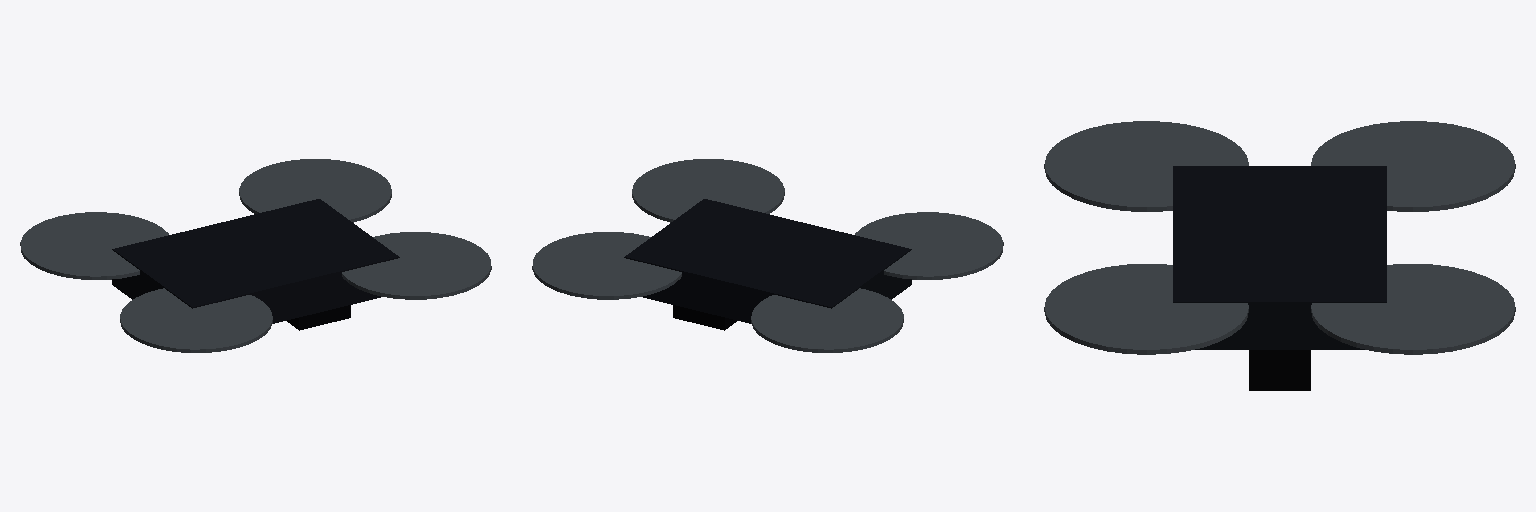
URDF robot description (inspection_drone):
<?xml version="1.0"?>
<robot name="inspection_drone" version="1.2">
  <material name="carbon">
    <color rgba="0.08 0.09 0.11 1"/>
  </material>
  <material name="propeller">
    <color rgba="0.28 0.3 0.32 0.72"/>
  </material>
  <material name="camera_black">
    <color rgba="0.04 0.04 0.05 1"/>
  </material>
  <link name="base_link">
    <inertial><origin xyz="0 0 0" rpy="0 0 0"/><mass value="3.8"/><inertia ixx="0.01" ixy="0" ixz="0" iyy="0.01" iyz="0" izz="0.01"/></inertial>
    <visual><origin xyz="0 0 0" rpy="0 0 0"/><geometry><mesh filename="meshes/frame.dae"/></geometry><material name="carbon"/></visual>
    <collision><origin xyz="0 0 0" rpy="0 0 0"/><geometry><box size="0.72 0.48 0.12"/></geometry></collision>
  </link>
  <link name="rotor_1">
    <inertial><origin xyz="0 0 0" rpy="0 0 0"/><mass value="0.12"/><inertia ixx="0.01" ixy="0" ixz="0" iyy="0.01" iyz="0" izz="0.01"/></inertial>
    <visual><origin xyz="0 0 0" rpy="0 0 0"/><geometry><cylinder radius="0.23" length="0.012"/></geometry><material name="propeller"/></visual>
    <collision><origin xyz="0 0 0" rpy="0 0 0"/><geometry><cylinder radius="0.23" length="0.012"/></geometry></collision>
  </link>
  <joint name="rotor_joint_1" type="continuous"><parent link="base_link"/><child link="rotor_1"/><origin xyz="-0.38 -0.3 0.05" rpy="0 0 0"/><axis xyz="0 0 1"/></joint>
  <link name="rotor_2">
    <inertial><origin xyz="0 0 0" rpy="0 0 0"/><mass value="0.12"/><inertia ixx="0.01" ixy="0" ixz="0" iyy="0.01" iyz="0" izz="0.01"/></inertial>
    <visual><origin xyz="0 0 0" rpy="0 0 0"/><geometry><cylinder radius="0.23" length="0.012"/></geometry><material name="propeller"/></visual>
    <collision><origin xyz="0 0 0" rpy="0 0 0"/><geometry><cylinder radius="0.23" length="0.012"/></geometry></collision>
  </link>
  <joint name="rotor_joint_2" type="continuous"><parent link="base_link"/><child link="rotor_2"/><origin xyz="-0.38 0.3 0.05" rpy="0 0 0"/><axis xyz="0 0 1"/></joint>
  <link name="rotor_3">
    <inertial><origin xyz="0 0 0" rpy="0 0 0"/><mass value="0.12"/><inertia ixx="0.01" ixy="0" ixz="0" iyy="0.01" iyz="0" izz="0.01"/></inertial>
    <visual><origin xyz="0 0 0" rpy="0 0 0"/><geometry><cylinder radius="0.23" length="0.012"/></geometry><material name="propeller"/></visual>
    <collision><origin xyz="0 0 0" rpy="0 0 0"/><geometry><cylinder radius="0.23" length="0.012"/></geometry></collision>
  </link>
  <joint name="rotor_joint_3" type="continuous"><parent link="base_link"/><child link="rotor_3"/><origin xyz="0.38 -0.3 0.05" rpy="0 0 0"/><axis xyz="0 0 1"/></joint>
  <link name="rotor_4">
    <inertial><origin xyz="0 0 0" rpy="0 0 0"/><mass value="0.12"/><inertia ixx="0.01" ixy="0" ixz="0" iyy="0.01" iyz="0" izz="0.01"/></inertial>
    <visual><origin xyz="0 0 0" rpy="0 0 0"/><geometry><cylinder radius="0.23" length="0.012"/></geometry><material name="propeller"/></visual>
    <collision><origin xyz="0 0 0" rpy="0 0 0"/><geometry><cylinder radius="0.23" length="0.012"/></geometry></collision>
  </link>
  <joint name="rotor_joint_4" type="continuous"><parent link="base_link"/><child link="rotor_4"/><origin xyz="0.38 0.3 0.05" rpy="0 0 0"/><axis xyz="0 0 1"/></joint>
  <link name="camera">
    <inertial><origin xyz="0 0 0" rpy="0 0 0"/><mass value="0.32"/><inertia ixx="0.01" ixy="0" ixz="0" iyy="0.01" iyz="0" izz="0.01"/></inertial>
    <visual><origin xyz="0 0 0" rpy="0 0 0"/><geometry><mesh filename="meshes/camera.obj"/></geometry><material name="camera_black"/></visual>
    <collision><origin xyz="0 0 0" rpy="0 0 0"/><geometry><box size="0.18 0.14 0.13"/></geometry></collision>
  </link>
  <joint name="camera_tilt" type="revolute"><parent link="base_link"/><child link="camera"/><origin xyz="0.2 0 -0.13" rpy="0 0 0"/><axis xyz="0 1 0"/><limit lower="-1.2" upper="0.35" effort="4" velocity="1.5"/></joint>
</robot>

--- Facts derived from the render (not from the file) ---
The picture shows the robot from 3 angles, left to right: view 1: azimuth 30°, elevation 25°; view 2: azimuth 150°, elevation 25°; view 3: azimuth 270°, elevation 25°; orthographic projection.
Robot: inspection_drone — 6 links, 5 joints (1 revolute, 4 continuous); root link base_link; default pose: all joints at 0.
Visible links, largest first — view 1: base_link, rotor_1, rotor_3, rotor_2, rotor_4, camera; view 2: base_link, rotor_2, rotor_4, rotor_1, rotor_3, camera; view 3: base_link, rotor_3, rotor_4, rotor_1, rotor_2, camera.
Boxes of the visible links, <box> form: base_link: <box>112,199,399,323</box>; rotor_1: <box>120,288,272,352</box>; rotor_3: <box>342,232,491,299</box>; rotor_2: <box>20,212,168,279</box>; rotor_4: <box>239,159,391,222</box>; camera: <box>287,305,350,330</box>; base_link: <box>624,199,911,323</box>; rotor_2: <box>751,288,903,352</box>; rotor_4: <box>532,232,681,299</box>; rotor_1: <box>855,212,1003,279</box>; rotor_3: <box>632,159,784,222</box>; camera: <box>673,305,736,330</box>; base_link: <box>1173,166,1386,349</box>; rotor_3: <box>1044,264,1248,354</box>; rotor_4: <box>1311,264,1515,354</box>; rotor_1: <box>1044,121,1248,211</box>; rotor_2: <box>1311,121,1515,211</box>; camera: <box>1249,350,1310,390</box>.
Bounding box of the posed robot: 1.22 × 1.06 × 0.255 m (x, y, z).
2 mesh visuals loaded from 2 distinct referenced files (1 Collada DAE, 1 OBJ).
